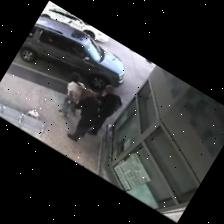person: (67, 90, 99, 142), (88, 85, 121, 135), (58, 73, 85, 116)
